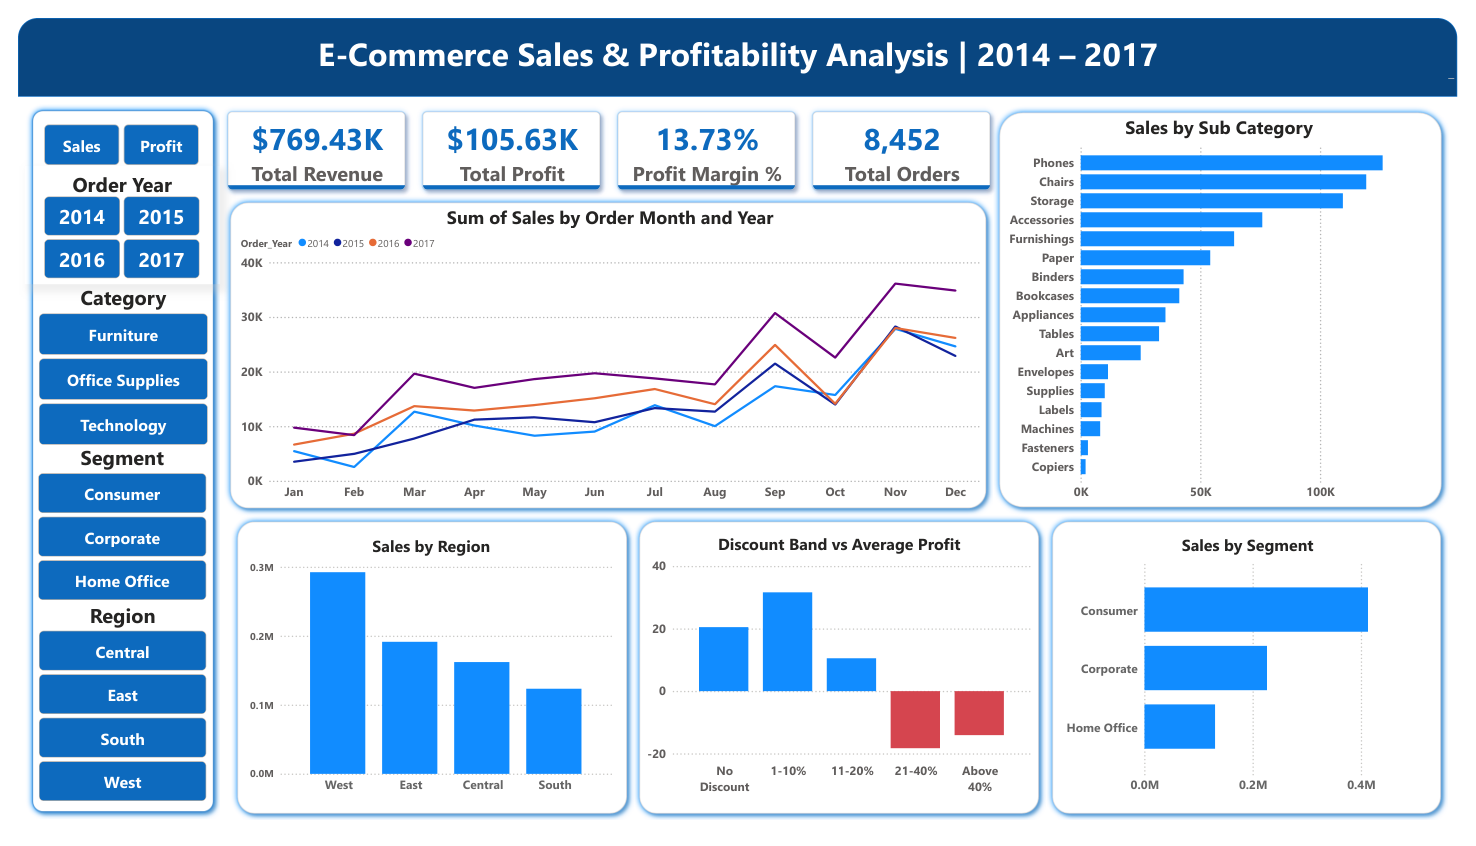

Layout of this report page (visuals, bound fields, positions):
{"tool":"powerbi","page":{"name":"Overview","canvas":[1920,1080],"ordinal":0},"visuals":[{"type":"cardVisual","fields":{"Data":["Sum(orders.Sales)","Sum(orders.Profit)","orders.Profit Margin %","CountNonNull(orders.Order_ID)"]},"box":[250.8,96.3,1074.3,162.2],"z":0},{"type":"shape","box":[0,0,1919.1,105],"z":1000},{"type":"textbox","title":"E-Commerce Sales & Profitability Analysis | 2014 – 2017","box":[0,18,1920,68],"z":2000},{"type":"shape","box":[10,115,259,953],"z":3000},{"type":"advancedSlicerVisual","title":"Order Year","fields":{"Values":["orders.Order_Year"]},"box":[9,197,260,158],"z":4000},{"type":"advancedSlicerVisual","fields":{"Values":["orders.Category"]},"box":[23,354,235,223],"z":5000},{"type":"advancedSlicerVisual","fields":{"Values":["orders.Segment"]},"box":[22,567,234,216],"z":6000},{"type":"advancedSlicerVisual","fields":{"Values":["orders.Region"]},"box":[22.5,776.7,233.3,273.3],"z":7000},{"type":"shape","box":[1370,662.9,537.1,405.7],"z":8000},{"type":"shape","box":[820,662.9,551.4,405.7],"z":9000},{"type":"shape","box":[284.3,662.9,537.1,405.7],"z":10000},{"type":"clusteredColumnChart","title":"Profit by Region","fields":{"Y":["Sum(orders.Profit)"],"Category":["orders.Region"]},"box":[304.1,689.2,494.1,354.7],"z":11000},{"type":"columnChart","title":"Discount Band vs Average Profit","fields":{"Y":["Avg(orders.Profit)"],"Category":["orders.Discount_Band"]},"box":[834.3,685.7,521.4,357.1],"z":12000},{"type":"shape","box":[275,236.7,1025,426.7],"z":13000},{"type":"lineChart","title":"Sum of Sales by Order Month and Year","fields":{"Y":["Sum(orders.Sales)"],"Series":["orders.Order_Year"],"Category":["orders.Month_Name"]},"box":[291.7,248.3,995,405],"z":14000},{"type":"shape","box":[1300,116.7,606.7,545],"z":15000},{"type":"barChart","title":"Profit by Sub Category","fields":{"Y":["Sum(orders.Profit)"],"Category":["orders.Sub_Category"]},"box":[1315,128.3,573.3,525],"z":16000},{"type":"clusteredBarChart","title":"Profit by Segment","fields":{"Y":["Sum(orders.Profit)"],"Category":["orders.Segment"]},"box":[1391.4,685.7,495.7,357.1],"z":17000},{"type":"actionButton","title":"hello","box":[35,142,100,54.1],"z":19000},{"type":"actionButton","title":"hello","box":[141,142,100,54],"z":20000}]}

Visuals, with their boxes in screenshot pixels (x1, y1, x2, y2), scaled from the page's 1920x1080 canvas onto the 1476x846 screenshot:
cardVisual - Sum(orders.Sales) x Sum(orders.Profit): <region>193, 75, 1019, 202</region>
shape: <region>0, 0, 1475, 82</region>
"E-Commerce Sales & Profitability Analysis | 2014 – 2017" textbox: <region>0, 14, 1475, 67</region>
shape: <region>8, 90, 207, 837</region>
"Order Year" advancedSlicerVisual: <region>7, 154, 207, 278</region>
advancedSlicerVisual - orders.Category: <region>18, 277, 198, 452</region>
advancedSlicerVisual - orders.Segment: <region>17, 444, 197, 613</region>
advancedSlicerVisual - orders.Region: <region>17, 608, 197, 822</region>
shape: <region>1053, 519, 1466, 837</region>
shape: <region>630, 519, 1054, 837</region>
shape: <region>219, 519, 631, 837</region>
"Profit by Region" clusteredColumnChart: <region>234, 540, 614, 818</region>
"Discount Band vs Average Profit" columnChart: <region>641, 537, 1042, 817</region>
shape: <region>211, 185, 999, 520</region>
"Sum of Sales by Order Month and Year" lineChart: <region>224, 195, 989, 512</region>
shape: <region>999, 91, 1466, 518</region>
"Profit by Sub Category" barChart: <region>1011, 101, 1452, 512</region>
"Profit by Segment" clusteredBarChart: <region>1070, 537, 1451, 817</region>
"hello" actionButton: <region>27, 111, 104, 154</region>
"hello" actionButton: <region>108, 111, 185, 154</region>
